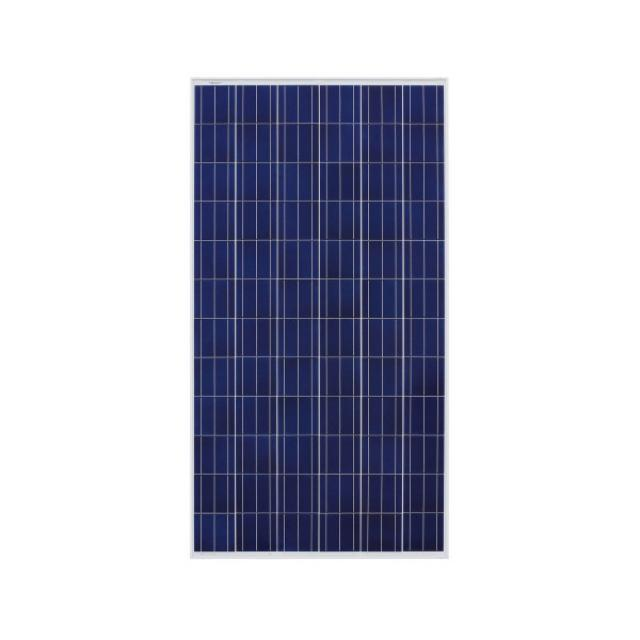no faulty: (195, 81, 442, 556)
